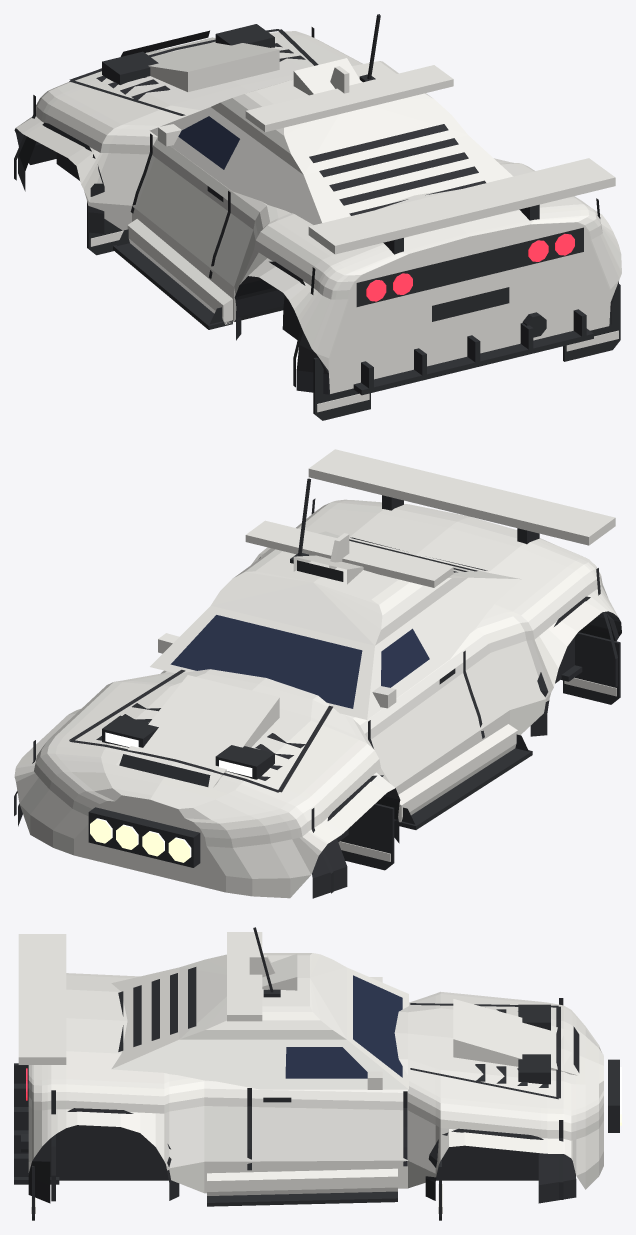
The model's file is Cuneo.glb.
3 views of the same model, one above another, from view 1: azimuth 30°, elevation 25°; view 2: azimuth 150°, elevation 25°; view 3: azimuth 270°, elevation 25° (orthographic). The views are drawn at different scales.
Parts seen in each view (by area): view 1: BumperRear, Roof, Opt_Wing_Rally_WingBlade, Fender_FL, Door_FL, Fender_RL, Hood, EngineCover, RoofSpoiler, Louver, Opt_Hood_Scoop_HoodScoop, TailGarnish (+24 smaller); view 2: BumperFront, Fender_RL, Roof, Hood, Opt_Wing_Rally_WingBlade, Cowl, Windshield, Door_FL, Opt_Hood_Scoop_HoodScoop, Pillars, Fender_FL, RoofSpoiler (+19 smaller); view 3: Fender_RR, Door_FR, Roof, Hood, WheelWell, Fender_FR, Cowl, Opt_Wing_Rally_WingBlade, BumperFront, RearQuarter, Opt_Hood_Scoop_HoodScoop, Opt_Skirts_Side_AccSkirt_R (+19 smaller).
Boxes of the visible parts, x1,y1,x2,y2 form: BumperRear: (297, 204, 621, 393); Roof: (211, 61, 467, 174); Opt_Wing_Rally_WingBlade: (308, 158, 615, 254); Fender_FL: (16, 88, 160, 230); Door_FL: (132, 137, 240, 281); Fender_RL: (212, 194, 338, 321); Hood: (57, 31, 355, 125); EngineCover: (304, 135, 513, 222); RoofSpoiler: (245, 65, 453, 132); Louver: (309, 124, 485, 215); Opt_Hood_Scoop_HoodScoop: (146, 37, 279, 91); TailGarnish: (356, 227, 583, 306); BumperFront: (14, 746, 328, 898); Fender_RL: (456, 561, 616, 739); Roof: (211, 549, 467, 645); Hood: (57, 673, 358, 802); Opt_Wing_Rally_WingBlade: (308, 449, 615, 545); Cowl: (173, 509, 566, 714); Windshield: (170, 615, 362, 708); Door_FL: (345, 652, 483, 794); Opt_Hood_Scoop_HoodScoop: (116, 675, 279, 788); Pillars: (150, 606, 447, 719); Fender_FL: (288, 715, 394, 842); RoofSpoiler: (245, 520, 453, 587); Fender_RR: (51, 1078, 246, 1193); Door_FR: (247, 1087, 407, 1188); Roof: (179, 953, 346, 1039); Hood: (408, 994, 563, 1108); WheelWell: (50, 1125, 575, 1180); Fender_FR: (408, 1081, 563, 1188); Cowl: (66, 975, 407, 1083); Opt_Wing_Rally_WingBlade: (18, 934, 66, 1064); BumperFront: (563, 1006, 603, 1189); RearQuarter: (112, 1039, 276, 1089); Opt_Hood_Scoop_HoodScoop: (453, 999, 578, 1075); Opt_Skirts_Side_AccSkirt_R: (207, 1168, 397, 1195).
Size of the model in its own units: 6.7 by 5.37 by 12.1.
